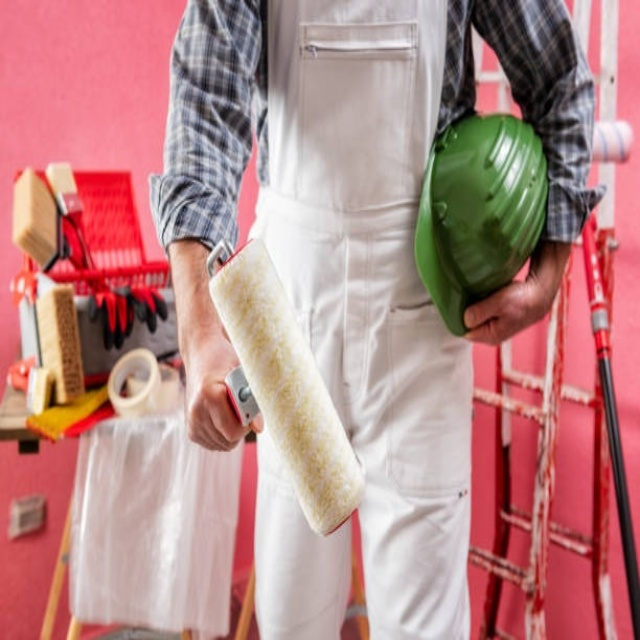Sin_guantes: (458, 251, 560, 350), (186, 347, 266, 452)
